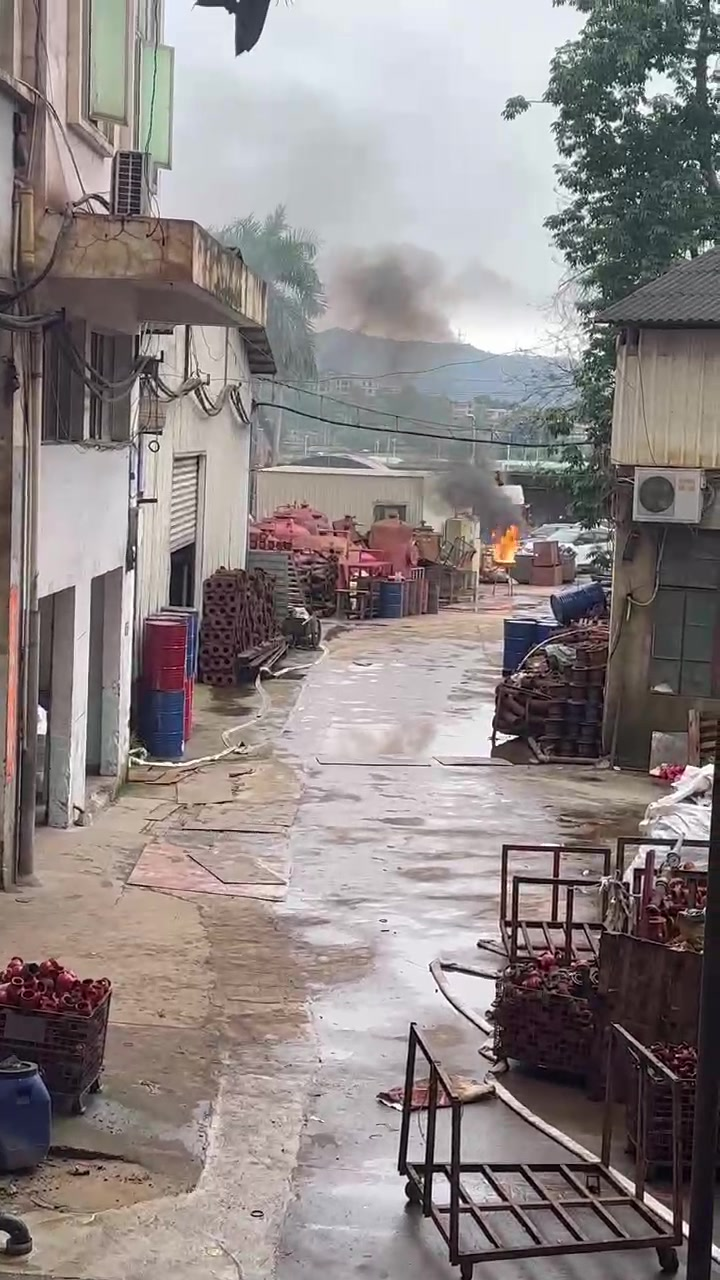fire: (492, 524, 518, 563)
